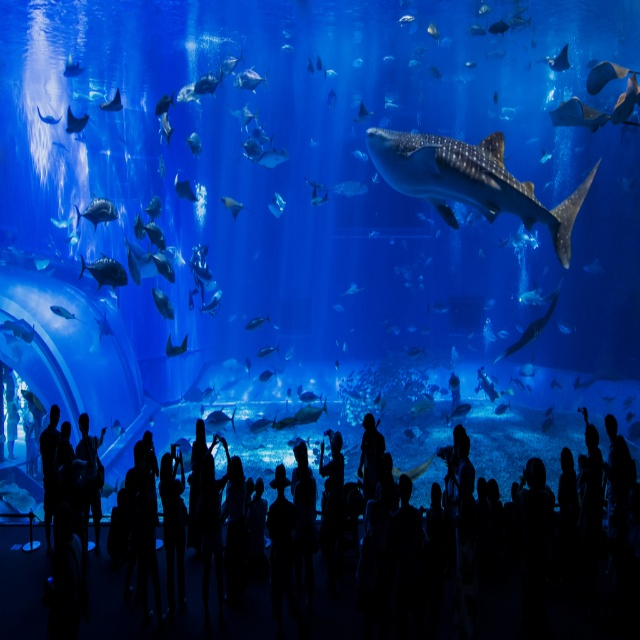Shark: (365, 130, 600, 272)
